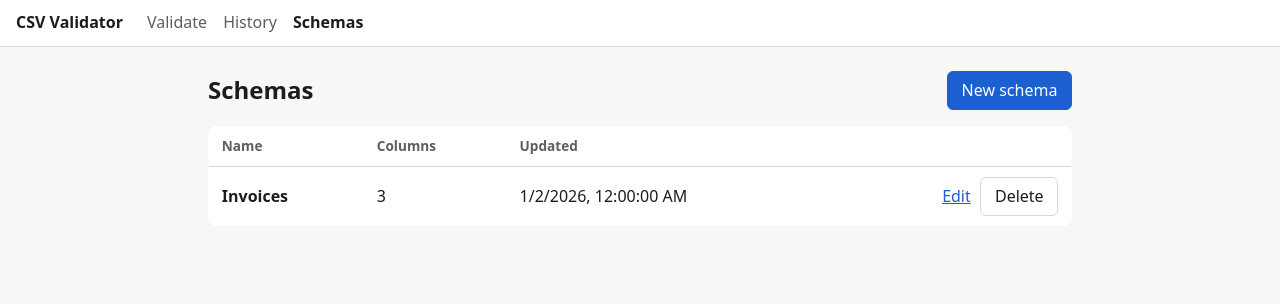
Test: deleting a schema › shows an error and keeps the row when deletion fails
Click the button with aria-label "Delete Invoices". click: [1019, 196]
box: [980,177,1058,216]
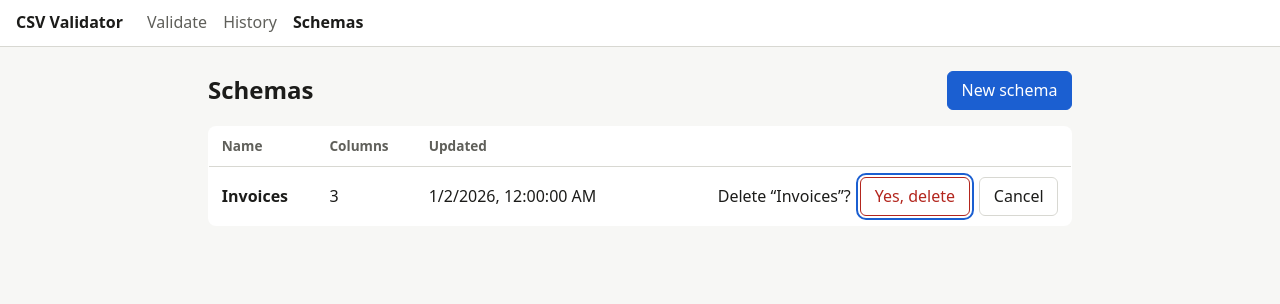
Click the button "Yes, delete". click: [915, 196]
box: [860,177,970,216]
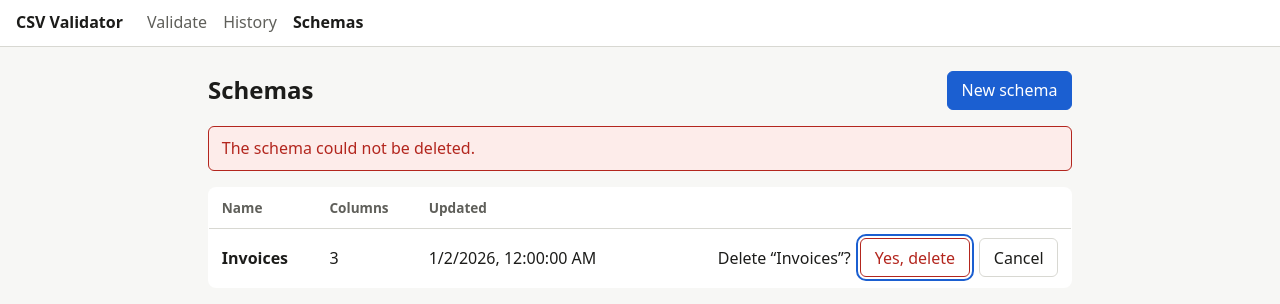
expect the column heading "Invoices" is shown: met, box [208,228,317,287]
expect the message shows "could not be deleted": met, box [222,137,475,159]
